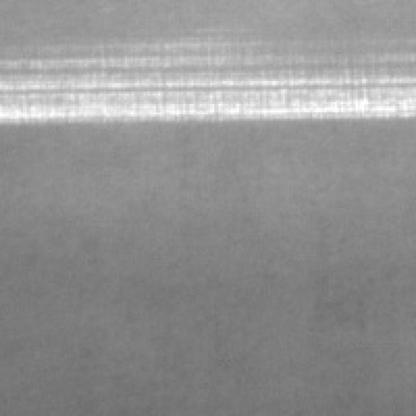scratches: (23, 50, 416, 116)
